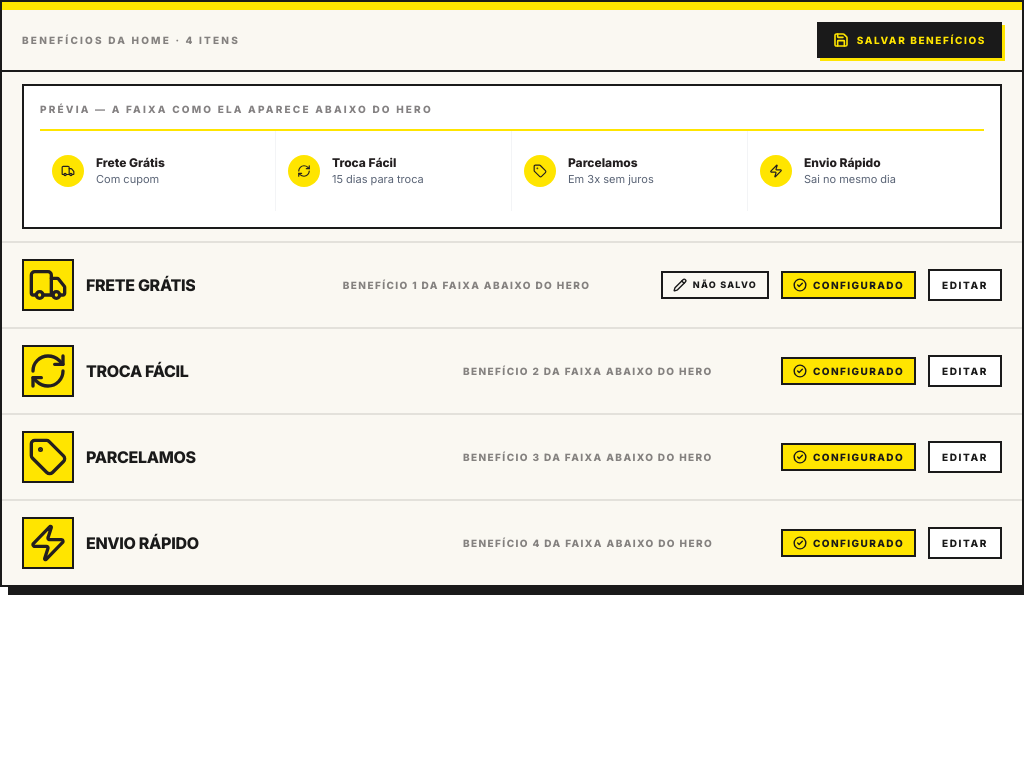
Test: FeaturesGroup › abre o editor do benefício e expõe o upload de SVG
Expected: the text "Benefícios da Home · 4 itens" is shown, left=22, top=32, right=240, bottom=48
Click the button with aria-label "editar frete grátis" at (965, 285), box left=928, top=269, right=1002, bottom=301
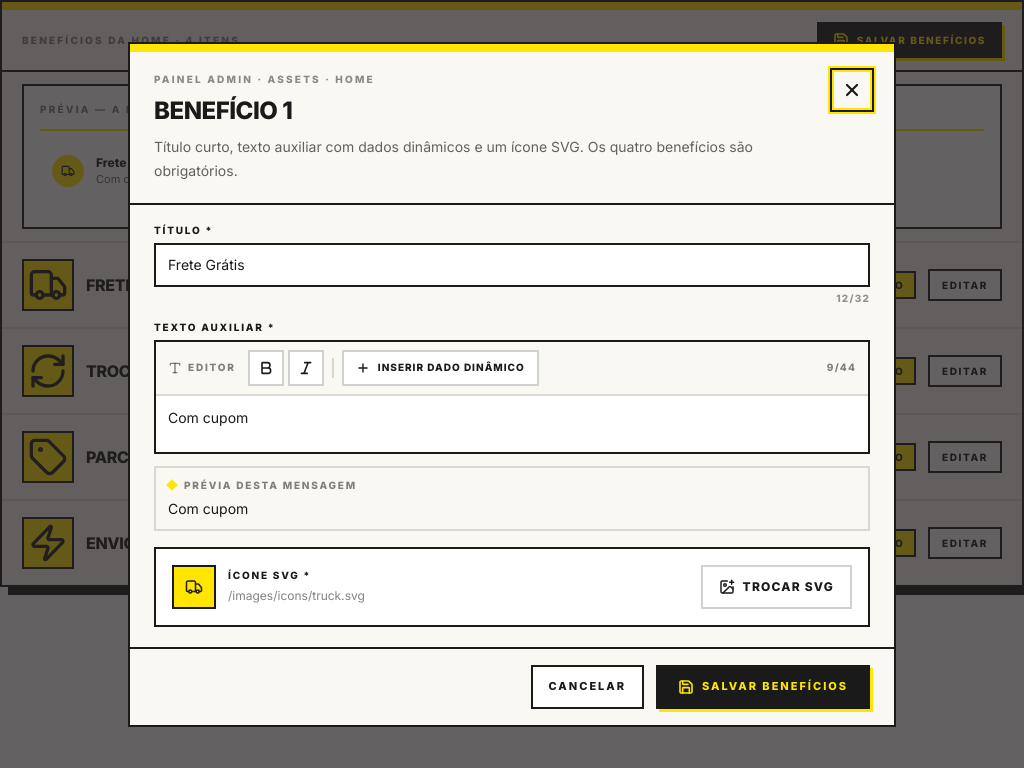
Expected: the dialog is shown
